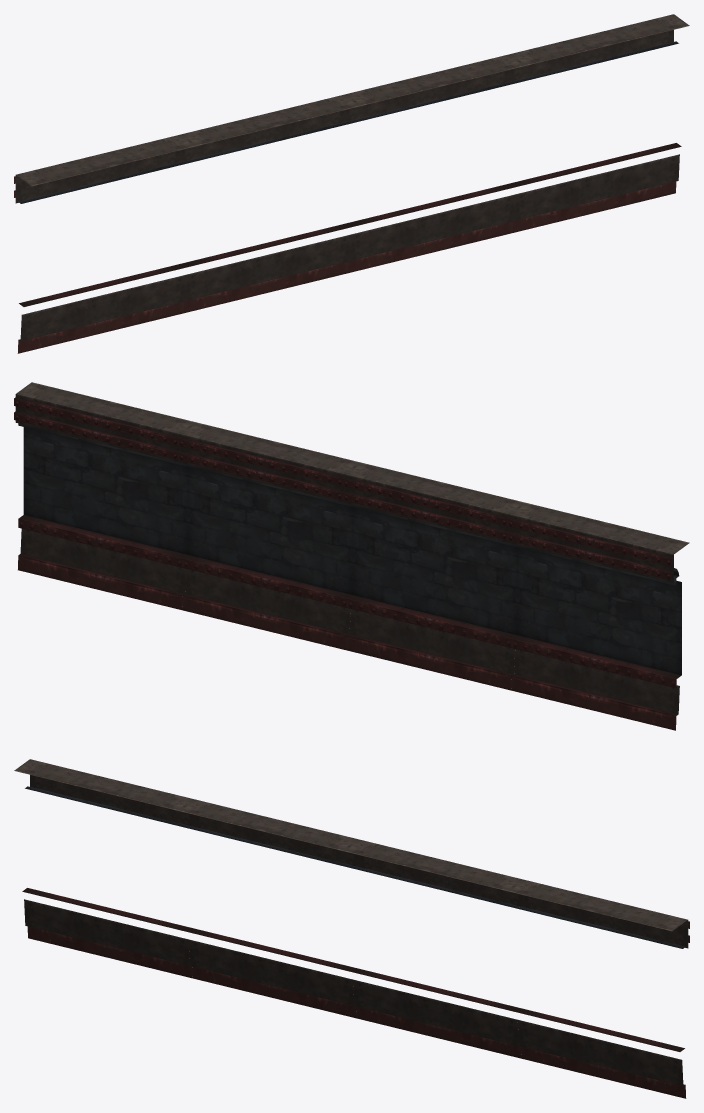
The model's file is mesh_tower_wall.FBX.
The picture shows the model from 3 angles, top to bottom: view 1: azimuth 30°, elevation 25°; view 2: azimuth 150°, elevation 25°; view 3: azimuth 330°, elevation 25°; orthographic projection.
Parts seen in each view (by area): view 1: mesh_tower_wall; view 2: mesh_tower_wall; view 3: mesh_tower_wall.
Boxes of the visible parts, <box> form: mesh_tower_wall: <box>14,14,689,353</box>; mesh_tower_wall: <box>14,382,689,730</box>; mesh_tower_wall: <box>14,759,689,1098</box>.
Bounding box in the file's own units: 16 × 4.13 × 0.7522.
